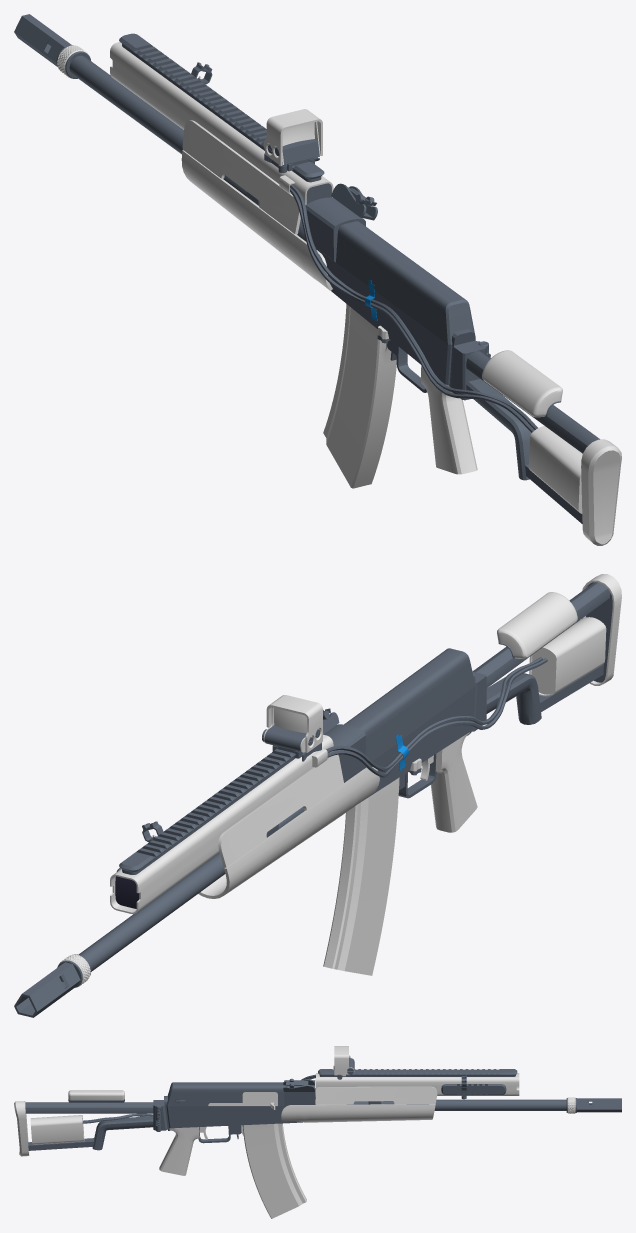
Rendered from bigiron.fbx.
3 renders of one model, top to bottom at view 1: azimuth 30°, elevation 25°; view 2: azimuth 150°, elevation 25°; view 3: azimuth 270°, elevation 25°, orthographic. The views are drawn at different scales.
Visible parts, largest first — view 1: handguard; view 2: handguard; view 3: handguard.
Boxes of the visible parts, x1=… form: handguard: x1=14, y1=14, x2=621, y2=545; handguard: x1=14, y1=574, x2=621, y2=1017; handguard: x1=14, y1=1046, x2=621, y2=1218.
Bounding box in the file's own units: 6.92 × 32.47 × 108.
